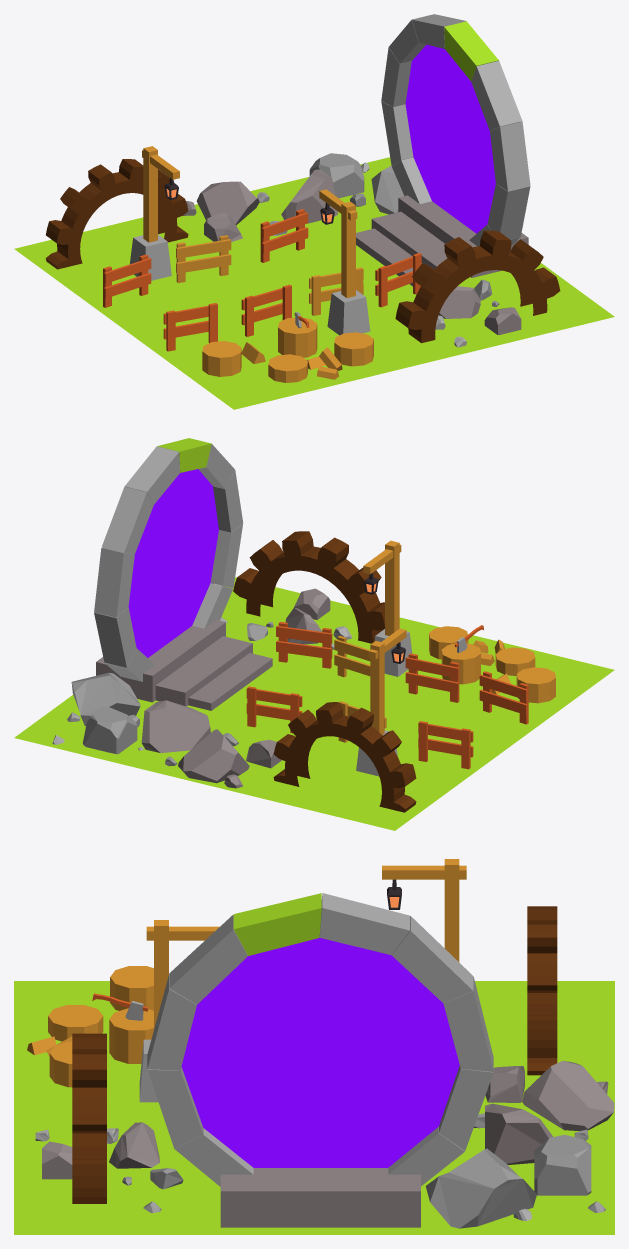
File: portal.glb
3 renders of one model, top to bottom at view 1: azimuth 30°, elevation 25°; view 2: azimuth 150°, elevation 25°; view 3: azimuth 270°, elevation 25°, orthographic. The views are drawn at different scales.
Visible parts, largest first — view 1: baked, portalLight; view 2: baked, portalLight; view 3: baked, portalLight.
Boxes of the visible parts, left/top/right/bottom form: baked: left=14, top=14, right=614, bottom=409; portalLight: left=405, top=44, right=495, bottom=233; baked: left=14, top=438, right=614, bottom=830; portalLight: left=128, top=469, right=218, bottom=657; baked: left=14, top=859, right=614, bottom=1234; portalLight: left=181, top=935, right=459, bottom=1167.
Bounding box in the file's own units: 4 × 2.25 × 4.
